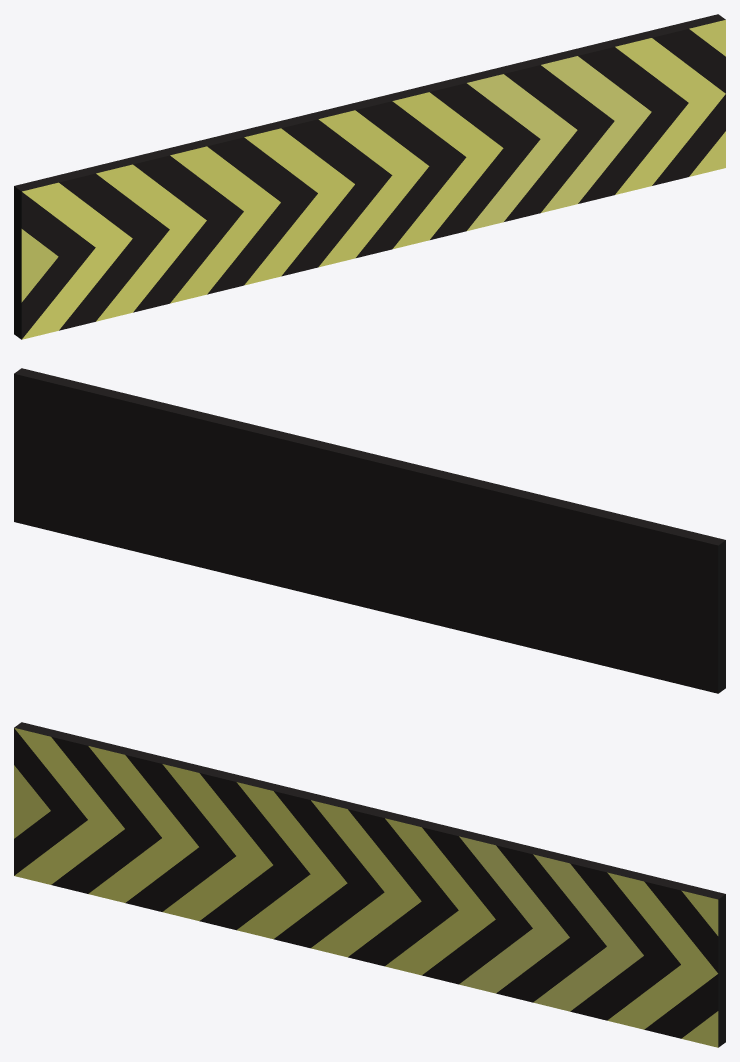
The model's file is Sign_Direction.fbx.
The picture shows the model from 3 angles, top to bottom: view 1: azimuth 30°, elevation 25°; view 2: azimuth 150°, elevation 25°; view 3: azimuth 330°, elevation 25°; orthographic projection.
Parts seen in each view (by area): view 1: Plane; view 2: Plane; view 3: Plane.
Part boxes in pixels (x1,y1,x2,y2): Plane: (14, 14, 725, 339); Plane: (14, 368, 725, 693); Plane: (14, 722, 725, 1047).
Size of the model in its own units: 9.94 by 2 by 0.1871.
